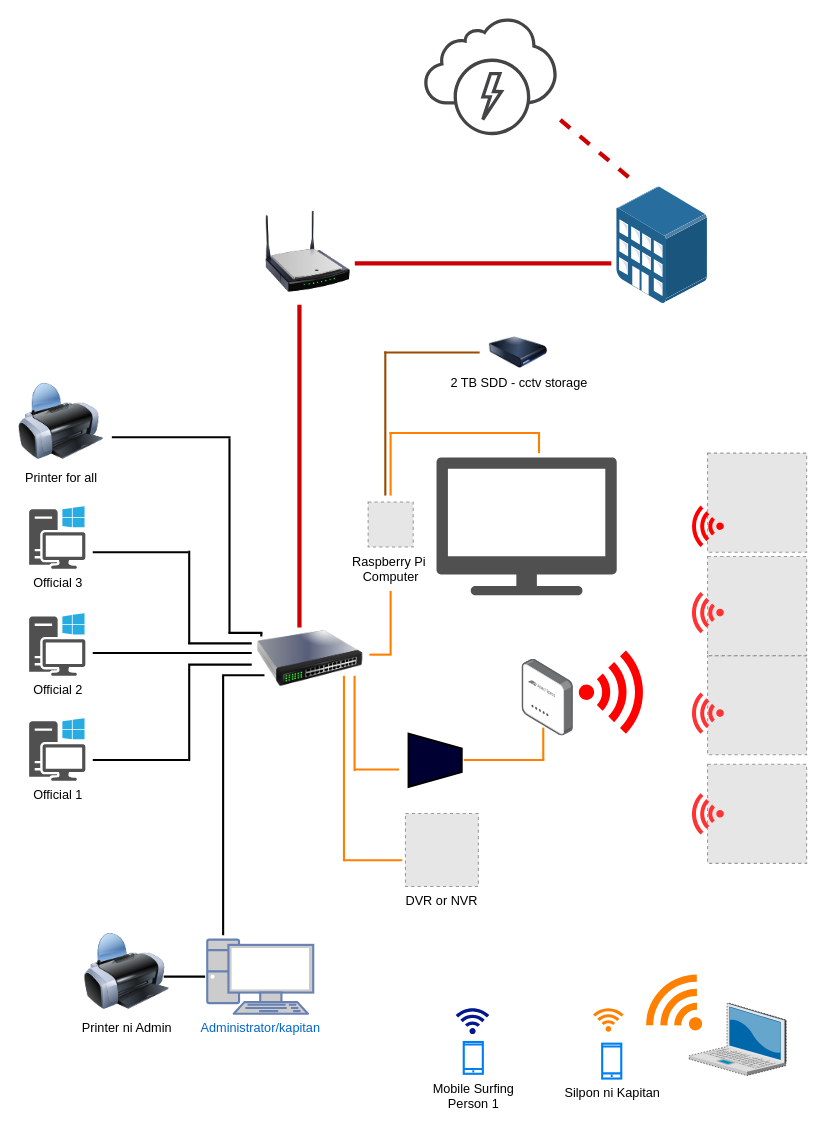
This 825x1130 diagram has some shape labels left out. Grey dashed boxes stand in for pictures. The centre of each missing label's shape, as x and y in pixels:
Access Point - cctv: the point at 547,697
Laptop Ni Kapitan: the point at 737,1039
Poe Adapter: the point at 434,759
Smart TV for CCTV Monitor: the point at 526,526
SWITCH: the point at 310,658
